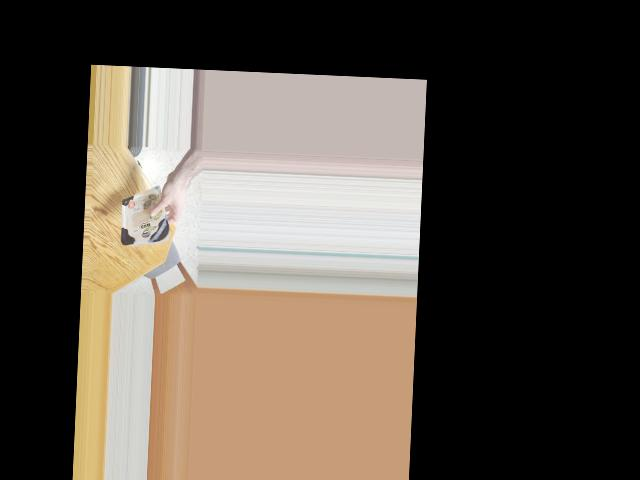cheese: (124, 188, 163, 248)
